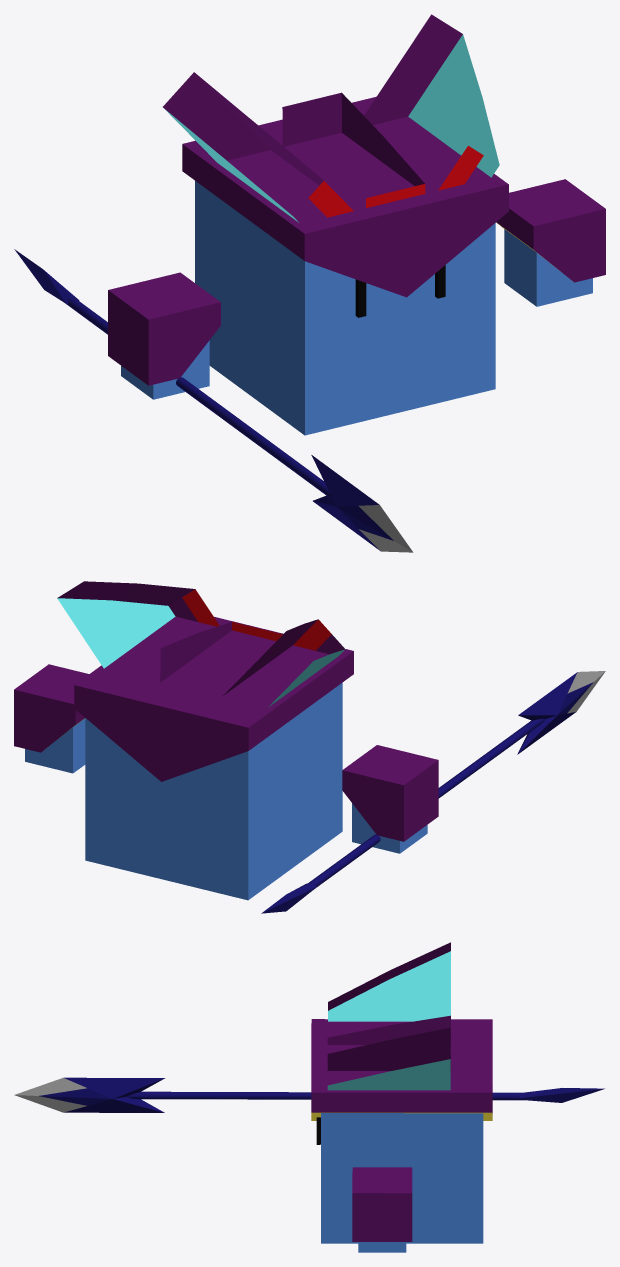
The model's file is Cail_Select.fbx.
The picture shows the model from 3 angles, top to bottom: view 1: azimuth 30°, elevation 25°; view 2: azimuth 150°, elevation 25°; view 3: azimuth 270°, elevation 25°; orthographic projection. The views are drawn at different scales.
Visible parts, largest first — view 1: Cube.003, Cube, Cube.002, Cube.010, Cube.012, Cube.001, Cube.005, Cube.007, Cube.017, Cylinder, Cube.008, Cube.009; view 2: Cube.003, Cube, Cube.002, Cube.010, Cube.012, Cube.007, Cube.001, Cube.005, Cylinder, Cube.017, Cube.008, Cube.009; view 3: Cube.003, Cube, Cube.001, Cube.002, Cube.012, Cube.007, Cylinder, Cube.005, Cube.009, Cube.017.
Part boxes in pixels (x1,y1,x2,y2): Cube.003: (195, 181, 495, 435); Cube: (182, 96, 508, 297); Cube.002: (364, 14, 499, 190); Cube.010: (108, 272, 220, 385); Cube.012: (496, 179, 605, 282); Cube.001: (163, 72, 353, 222); Cube.005: (282, 92, 425, 207); Cube.007: (311, 455, 413, 552); Cube.017: (504, 229, 592, 306); Cylinder: (55, 294, 332, 499); Cube.008: (121, 340, 209, 399); Cube.009: (14, 249, 79, 304); Cube.003: (85, 682, 342, 900); Cube: (74, 616, 353, 781); Cube.002: (57, 581, 219, 668); Cube.010: (342, 745, 438, 841); Cube.012: (14, 664, 88, 752); Cube.007: (517, 671, 605, 754); Cube.001: (222, 619, 345, 707); Cube.005: (160, 622, 282, 682); Cylinder: (303, 718, 545, 896); Cube.017: (25, 718, 85, 773); Cube.008: (352, 803, 427, 853); Cube.009: (261, 883, 316, 913); Cube.003: (321, 1113, 483, 1243); Cube: (311, 1019, 492, 1120); Cube.001: (328, 942, 450, 1021); Cube.002: (327, 1027, 450, 1090); Cube.012: (352, 1167, 412, 1241); Cube.007: (14, 1077, 164, 1112); Cylinder: (127, 1091, 529, 1100); Cube.005: (327, 1015, 450, 1044); Cube.009: (519, 1088, 604, 1102); Cube.017: (358, 1242, 406, 1252).
Size of the model in its own units: 479 by 730 by 305.
